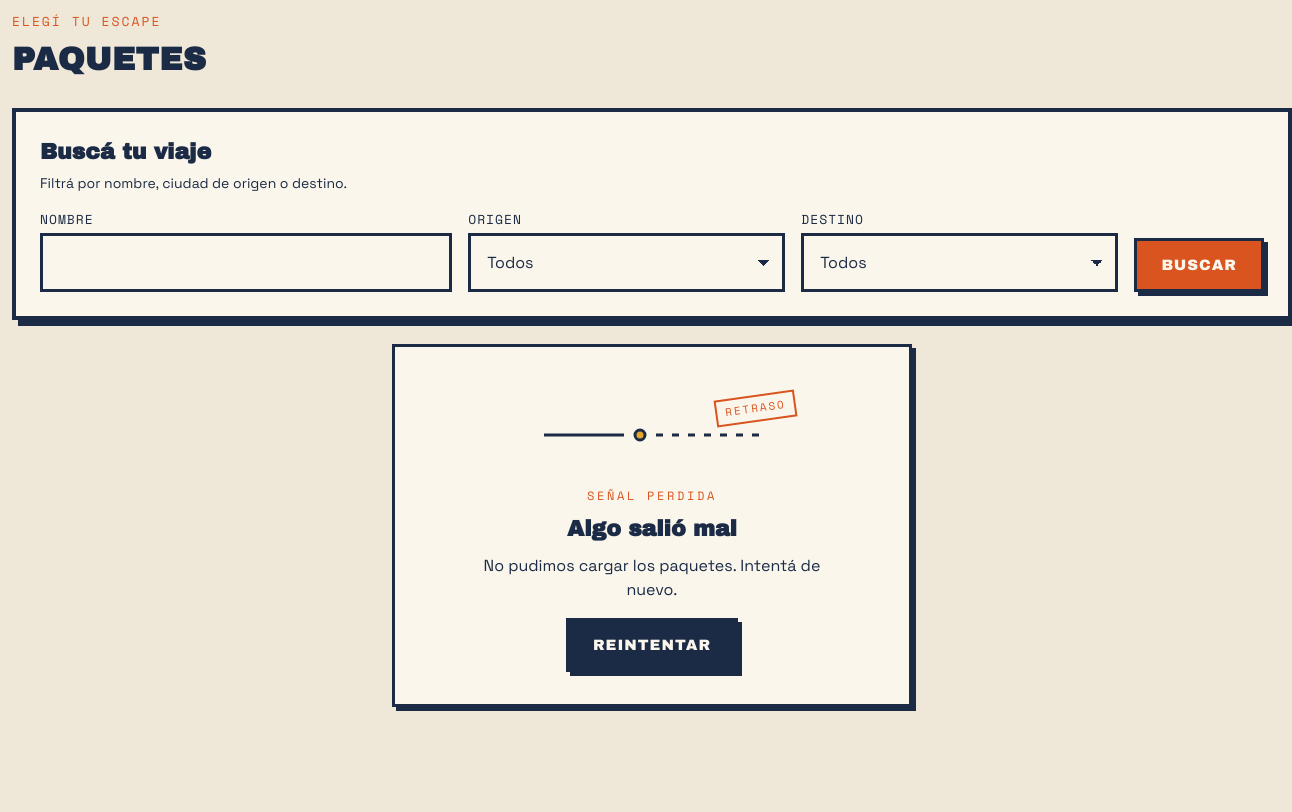
PackageList › shows an error and allows retry
Expected: the text "No pudimos cargar los paquetes. Intentá de nuevo." is shown, [467,554,837,602]
Expected: the message is shown, [392,344,912,707]
Click the button "Reintentar": (652, 645) [566,618,738,672]
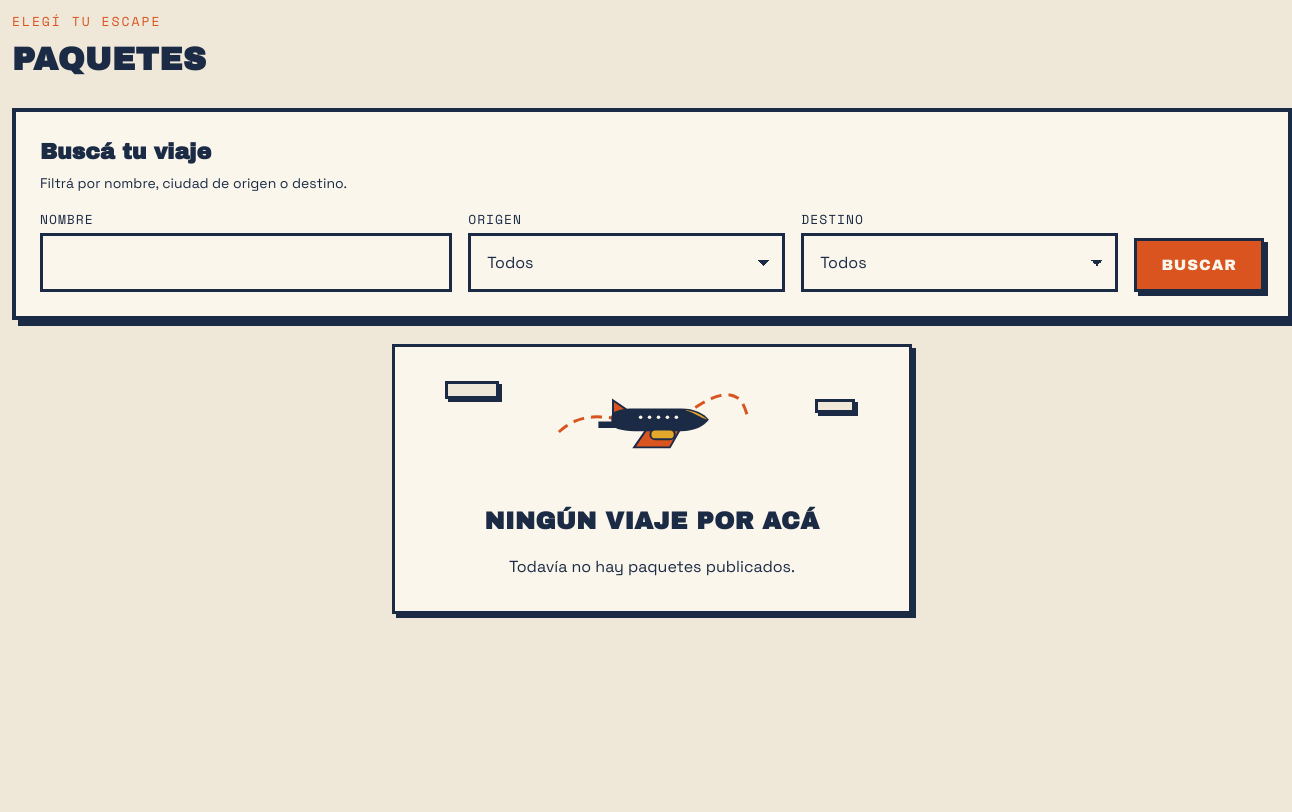
Now the text "Todavía no hay paquetes publicados." is shown, box [509,555,795,579]
